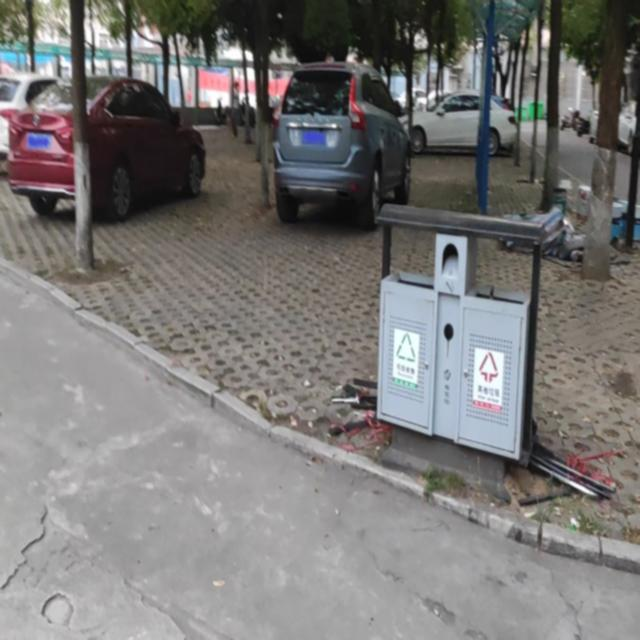ash bin: (373, 203, 544, 499)
car: (9, 76, 207, 218), (272, 61, 414, 225), (402, 89, 517, 155), (0, 74, 57, 153), (619, 98, 638, 152)
